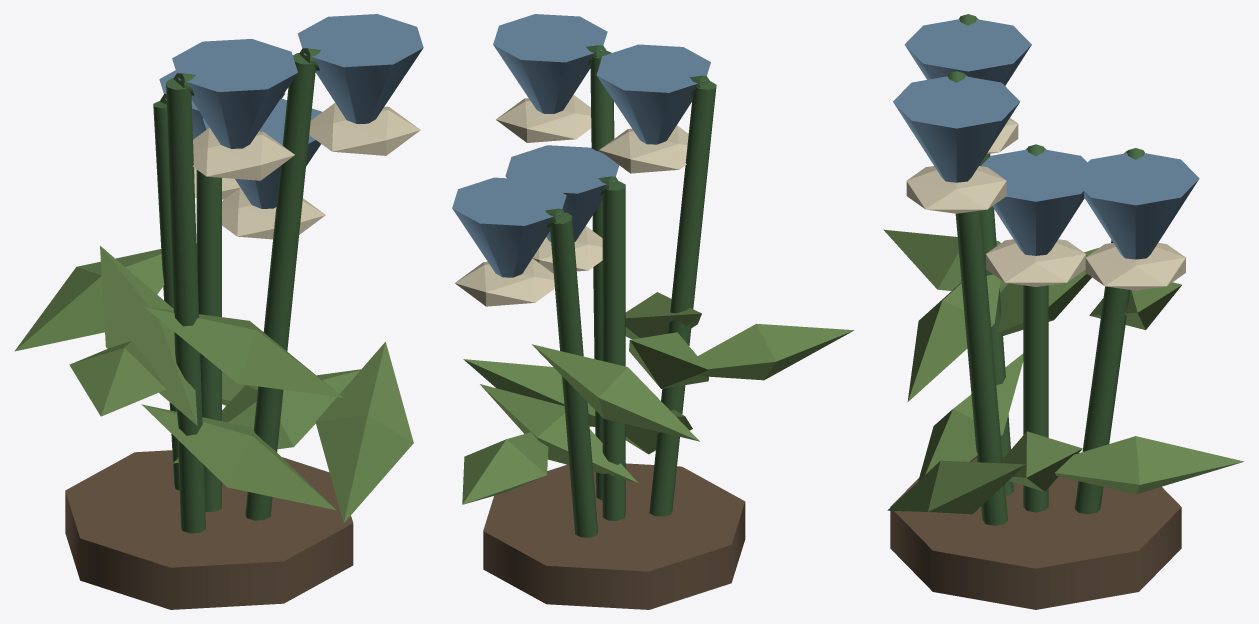
The model's file is plant-bluebell-3.glb.
3 renders of one model, left to right at view 1: azimuth 30°, elevation 25°; view 2: azimuth 150°, elevation 25°; view 3: azimuth 270°, elevation 25°, orthographic. The views are drawn at different scales.
Visible parts, largest first — view 1: plant-bluebell-3-visual; view 2: plant-bluebell-3-visual; view 3: plant-bluebell-3-visual.
Part boxes in pixels (x1,y1,x2,y2): plant-bluebell-3-visual: [14, 14, 423, 609]; plant-bluebell-3-visual: [452, 14, 853, 609]; plant-bluebell-3-visual: [883, 14, 1243, 609].
Size of the model in its own units: 0.4433 by 0.6113 by 0.3969.
